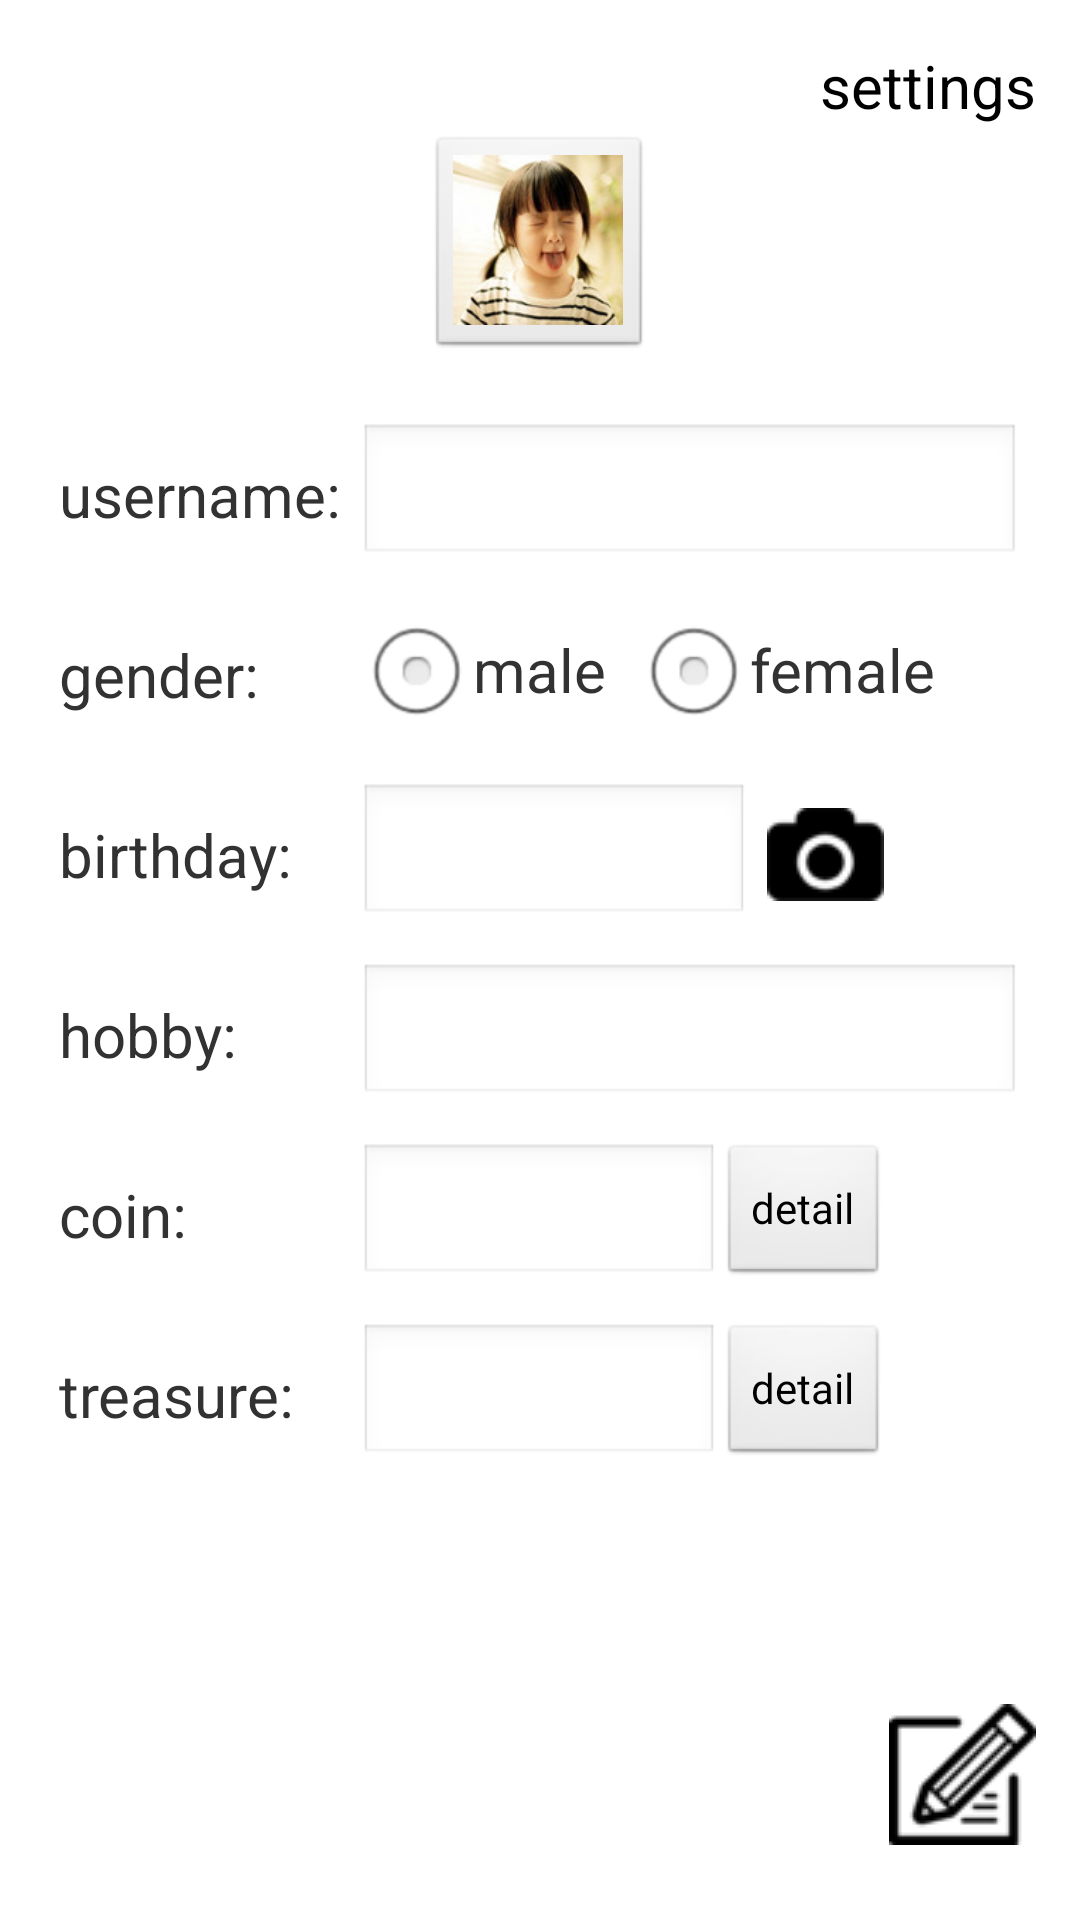

Icons on this 1080*1920 Android screen, each with its box as (x1, y1, x2, y2):
camera: (767, 808, 884, 901)
edit: (889, 1704, 1036, 1845)
photo: (436, 142, 642, 346)
